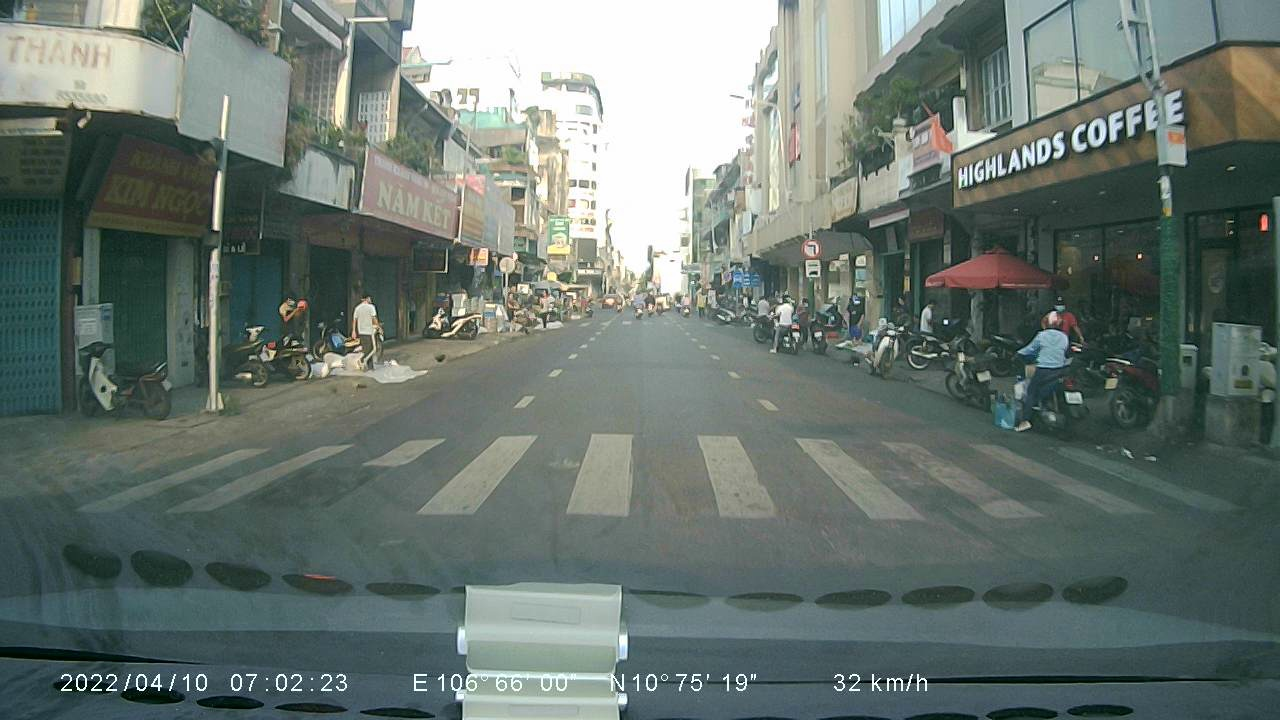Bien khac: (800, 236, 822, 258)
